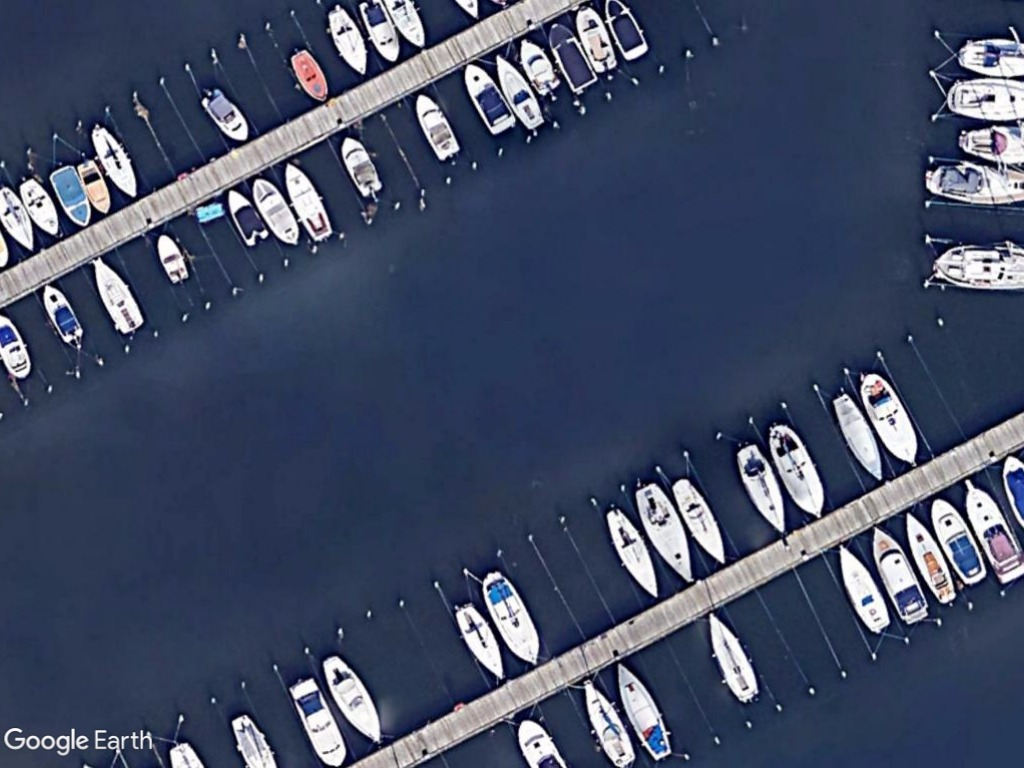boat: (854, 365, 926, 475), (630, 475, 698, 589), (479, 565, 549, 672), (611, 655, 677, 765), (765, 416, 831, 525), (962, 476, 1024, 591), (602, 501, 668, 607), (868, 518, 931, 629), (319, 647, 387, 748), (282, 673, 351, 768), (578, 670, 643, 768), (670, 471, 734, 570), (702, 603, 763, 706), (901, 507, 961, 610), (732, 438, 792, 539), (831, 539, 892, 638), (928, 492, 988, 591), (87, 248, 149, 342), (485, 47, 548, 139), (829, 389, 890, 484), (278, 154, 339, 246), (449, 595, 510, 683), (461, 56, 521, 139), (542, 16, 602, 95), (245, 173, 305, 252), (90, 122, 143, 207), (323, 2, 378, 82), (570, 0, 623, 78), (413, 88, 466, 165), (198, 80, 256, 144), (47, 159, 96, 234), (336, 132, 388, 202), (223, 183, 274, 250), (14, 172, 63, 240), (598, 0, 650, 64), (39, 279, 87, 346), (516, 32, 562, 99), (73, 150, 115, 220), (288, 44, 335, 106), (154, 228, 198, 289)
